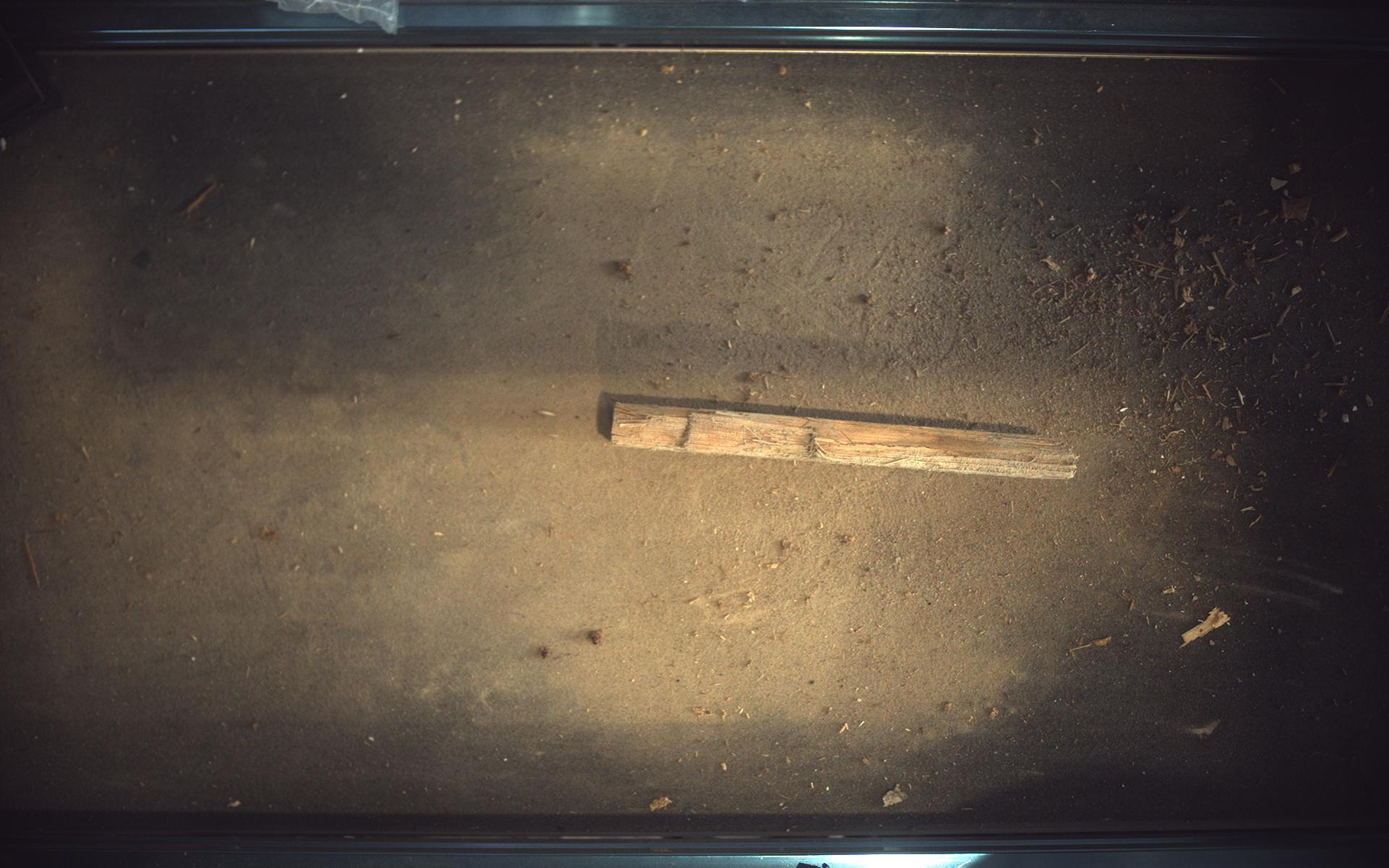wood: (611, 402, 1079, 480)
